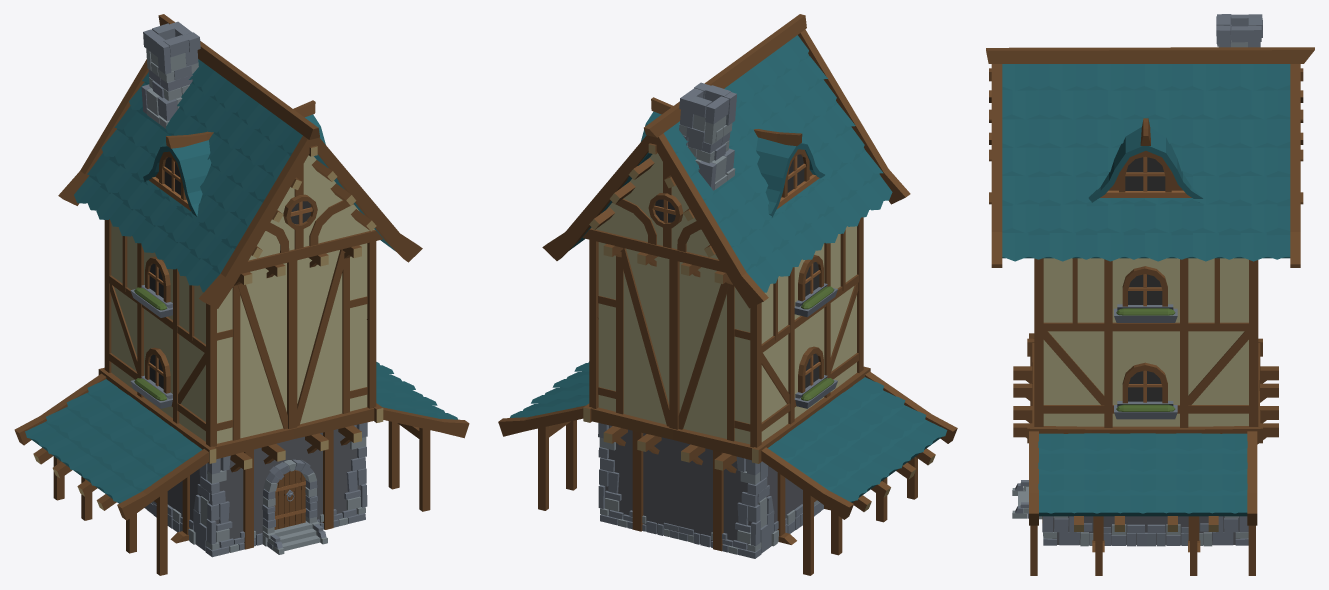
Rendered from Mill.glb.
The picture shows the model from 3 angles, left to right: view 1: azimuth 30°, elevation 25°; view 2: azimuth 150°, elevation 25°; view 3: azimuth 270°, elevation 25°; orthographic projection. The views are drawn at different scales.
Parts seen in each view (by area): view 1: Mill; view 2: Mill; view 3: Mill.
Boxes of the visible parts, x1,y1,x2,y2 form: Mill: (14, 14, 469, 575); Mill: (498, 14, 957, 575); Mill: (986, 14, 1314, 575).
Size of the model in its own units: 10.19 by 12.43 by 7.85.
